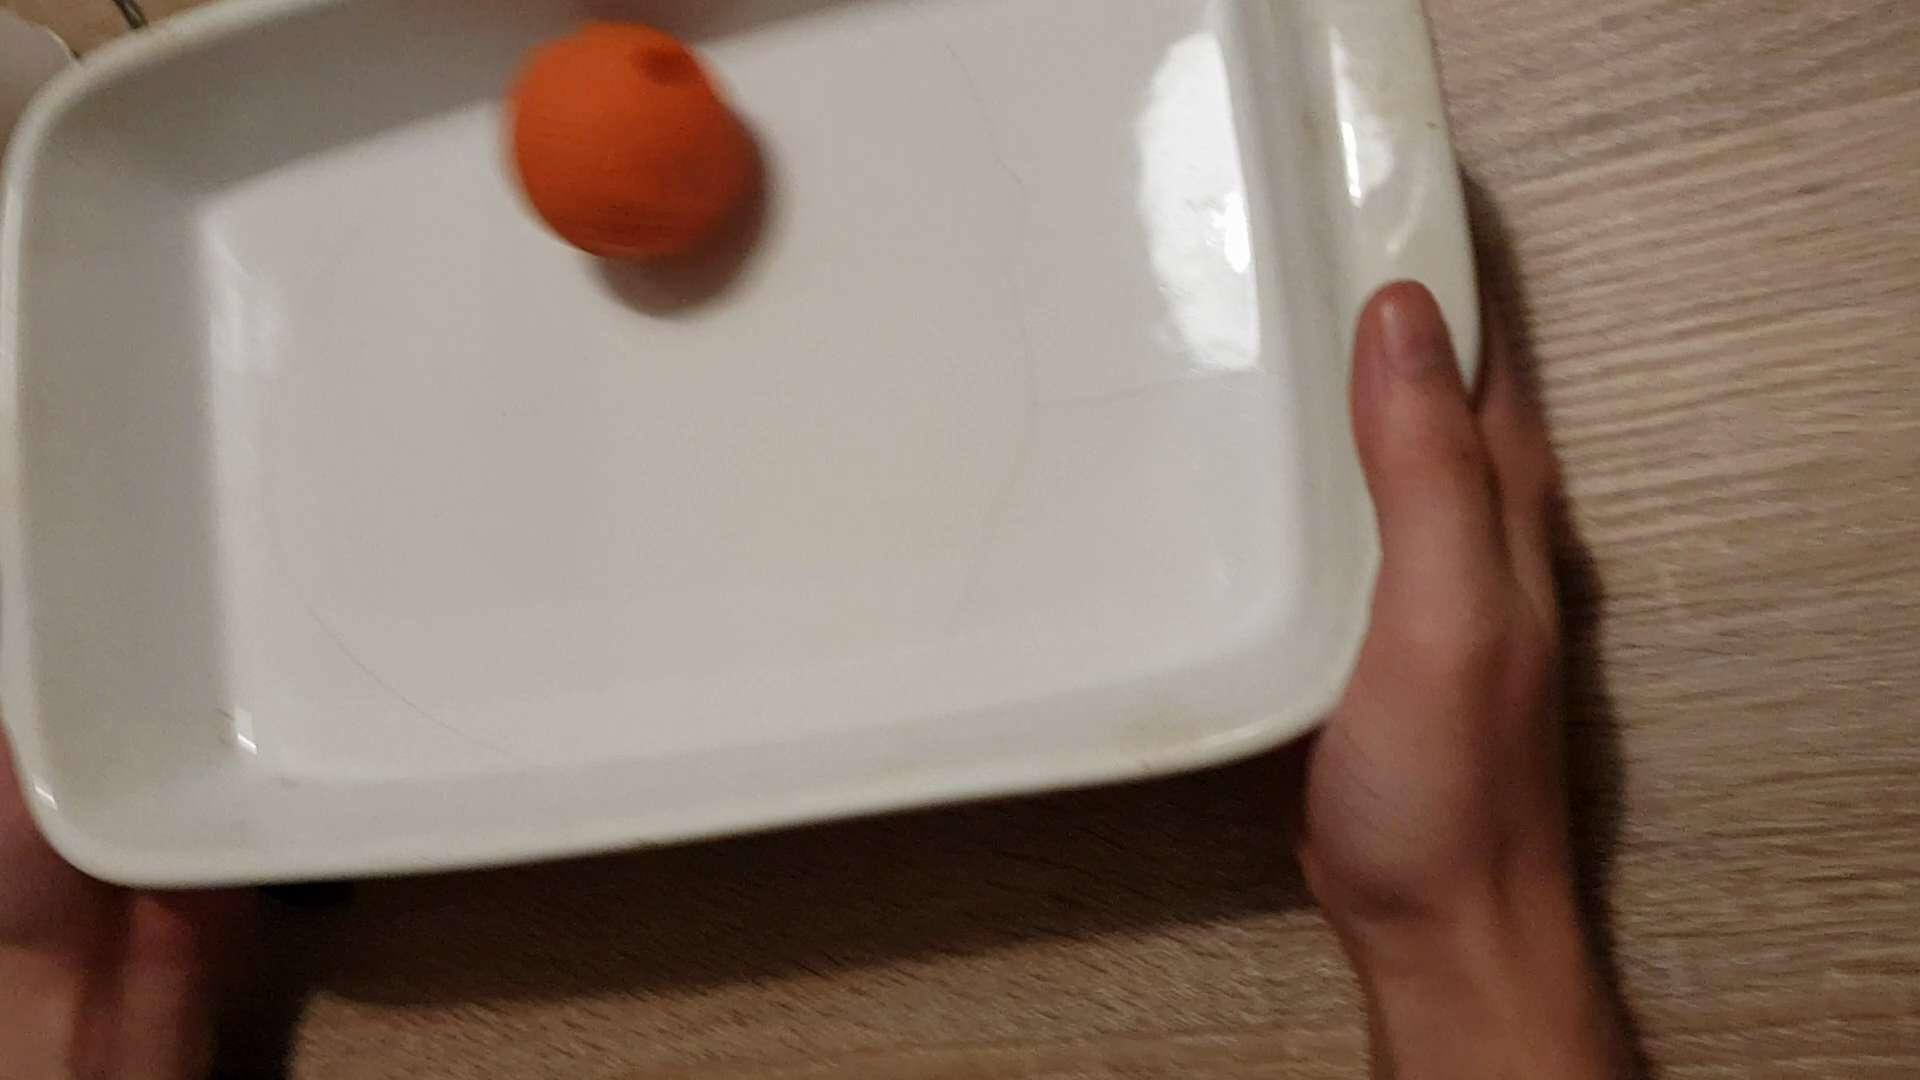sphere: (501, 13, 746, 270)
